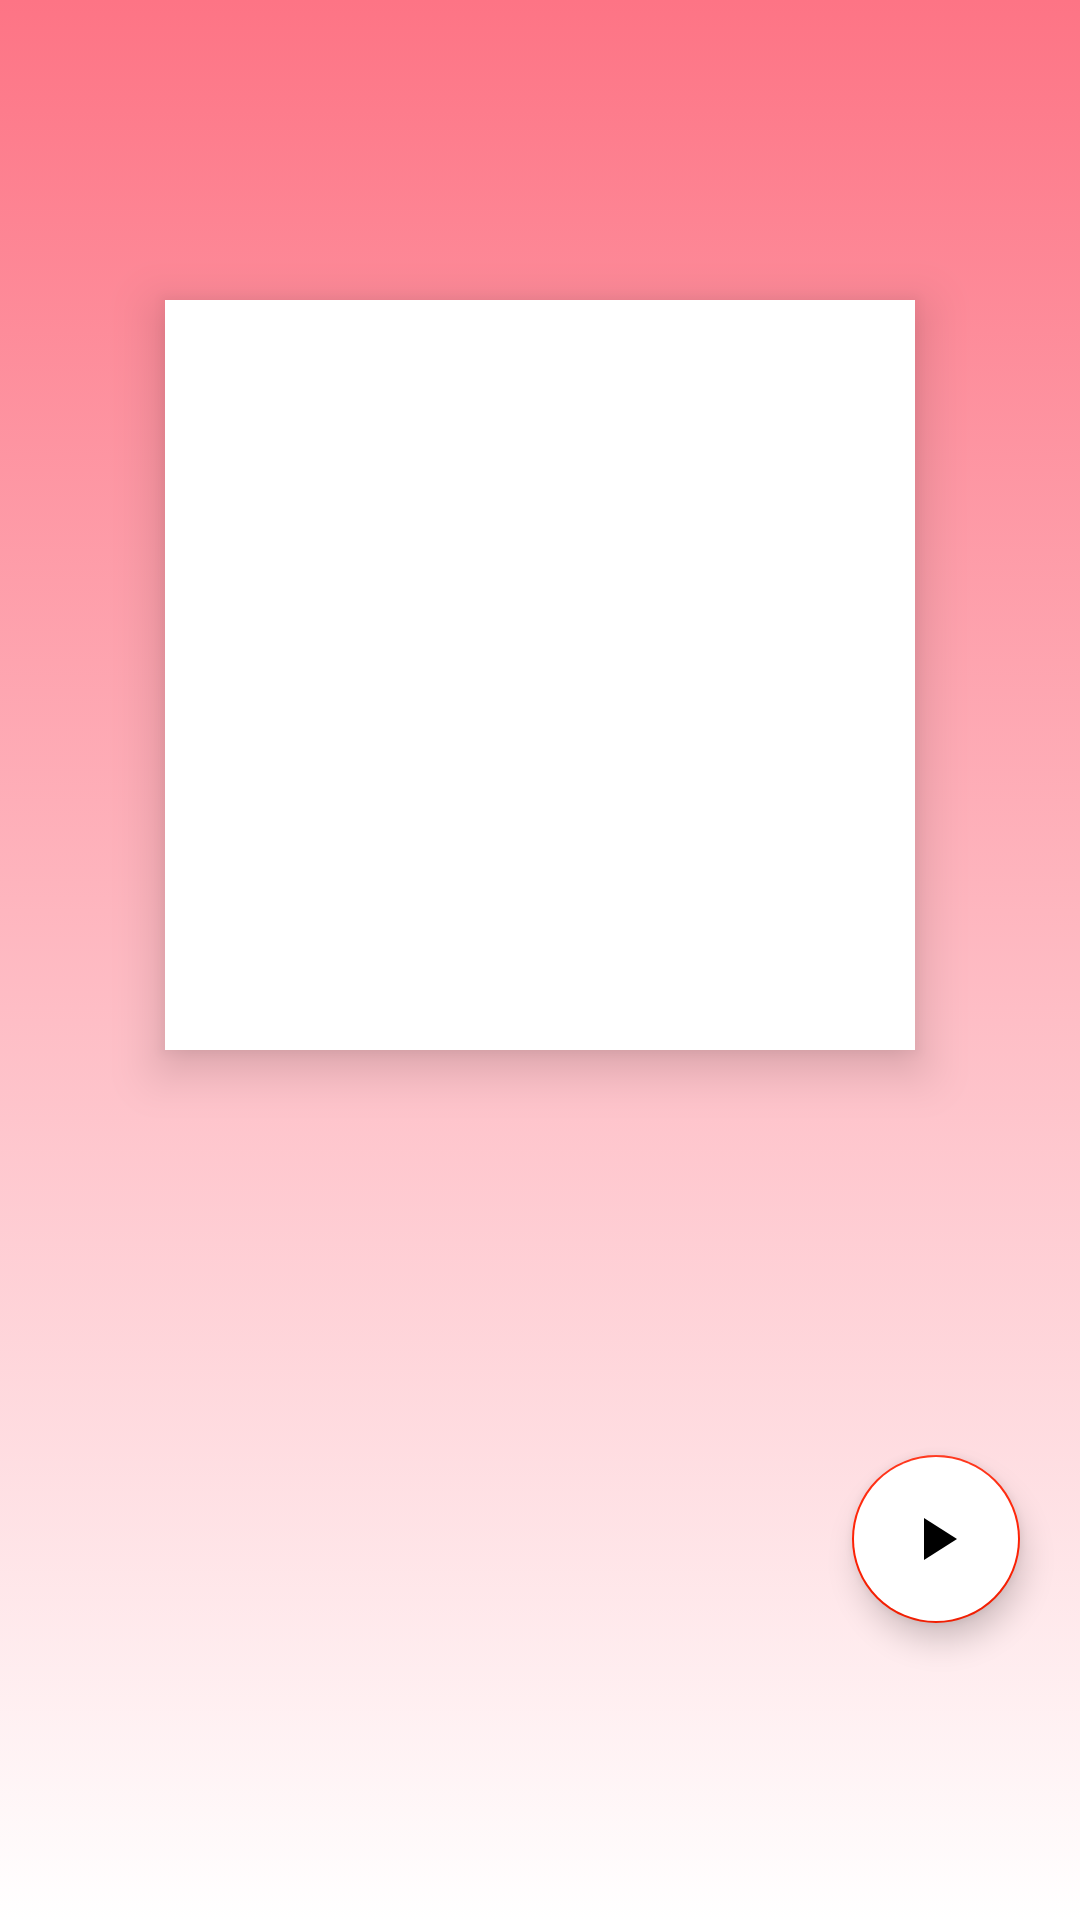

Icon click points for this 1080w x 1920h phone screenshot, format (x,y):
play arrow: (936,1539)
